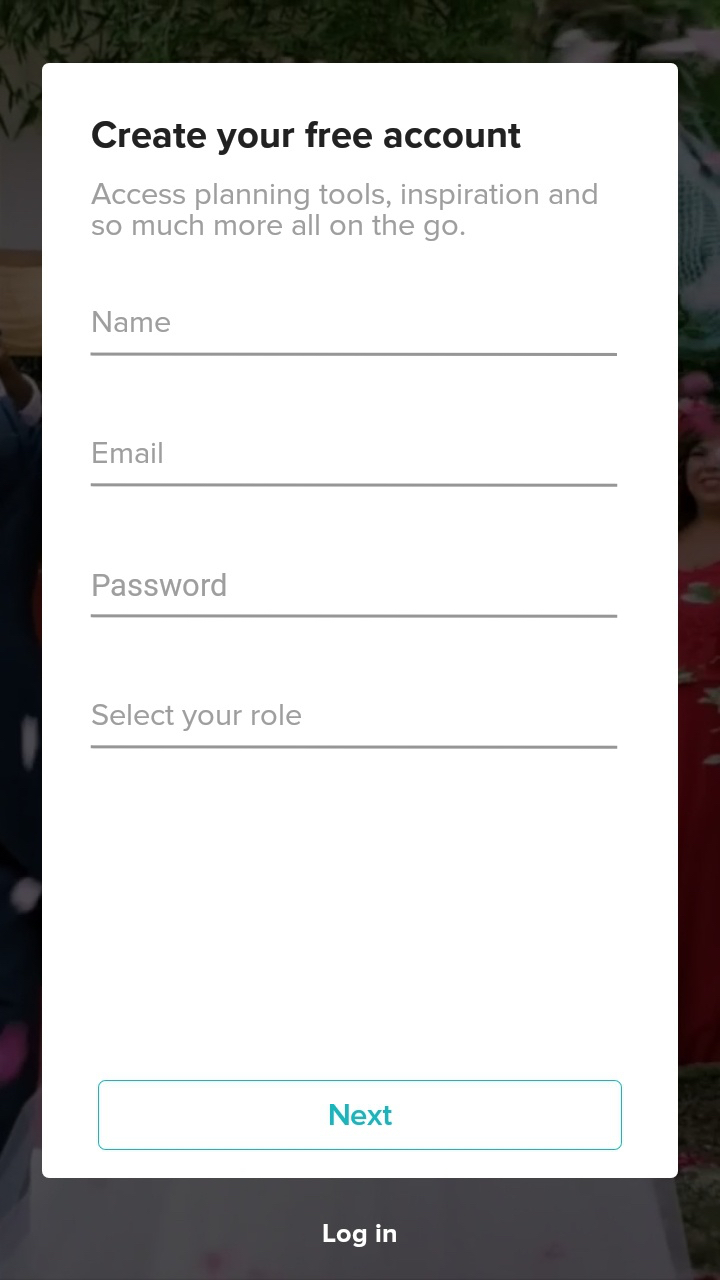EditText: (91, 703, 618, 750), (90, 311, 618, 357), (91, 573, 618, 619), (91, 442, 618, 488)
Modal: (42, 64, 678, 1178)
Text: (91, 183, 598, 242), (92, 121, 521, 157), (93, 704, 302, 732), (93, 573, 227, 598), (323, 1223, 397, 1248), (94, 311, 172, 334), (93, 442, 164, 465)
TextButton: (98, 1080, 623, 1151)
